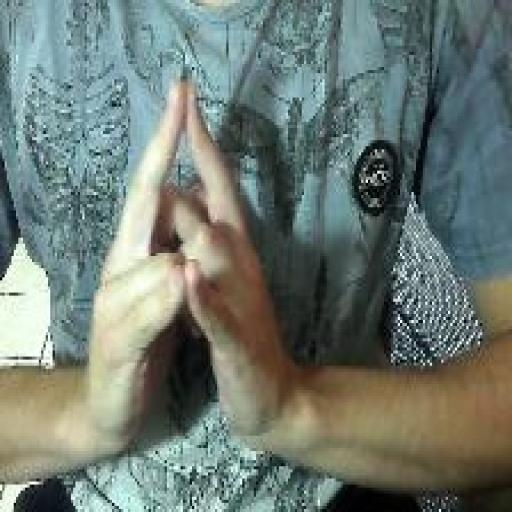Tori -bird-: (85, 78, 288, 458)
